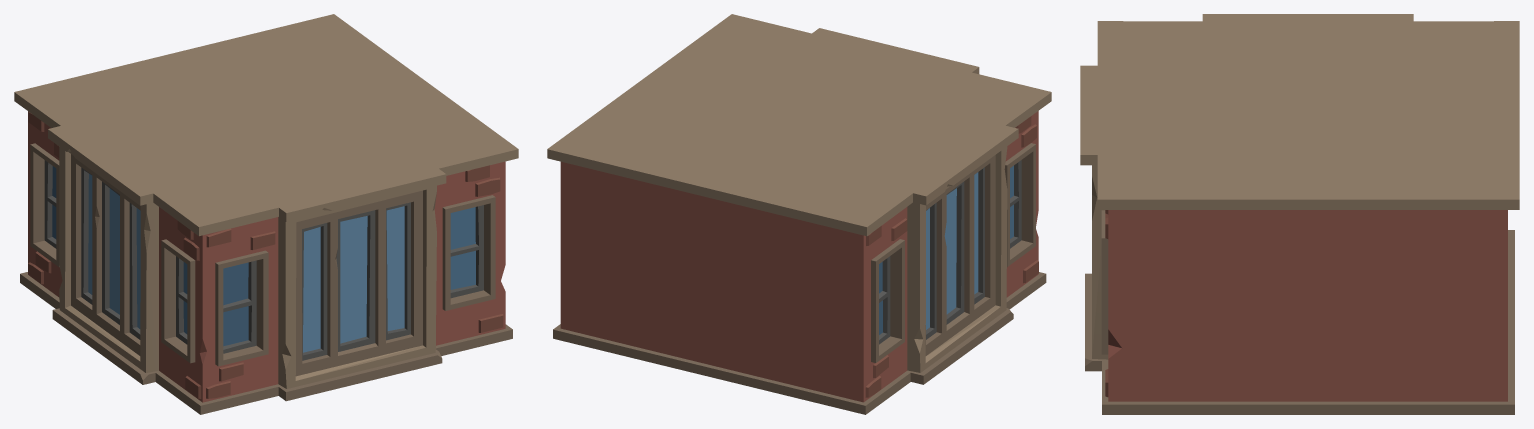
The model's file is SM_Bld_Apartment_Corner_03.obj.
3 renders of one model, left to right at view 1: azimuth 30°, elevation 25°; view 2: azimuth 150°, elevation 25°; view 3: azimuth 270°, elevation 25°, orthographic. The views are drawn at different scales.
Parts seen in each view (by area): view 1: SM_Bld_Apartment_Corner_03_0; view 2: SM_Bld_Apartment_Corner_03_0; view 3: SM_Bld_Apartment_Corner_03_0.
Part boxes in pixels (box(x1,y1,x2,y2)): SM_Bld_Apartment_Corner_03_0: box(14, 14, 518, 414); SM_Bld_Apartment_Corner_03_0: box(547, 14, 1051, 414); SM_Bld_Apartment_Corner_03_0: box(1080, 14, 1519, 414).
Bounding box in the file's own units: 5.49 × 3 × 5.5.
1 material, 1 textured.
